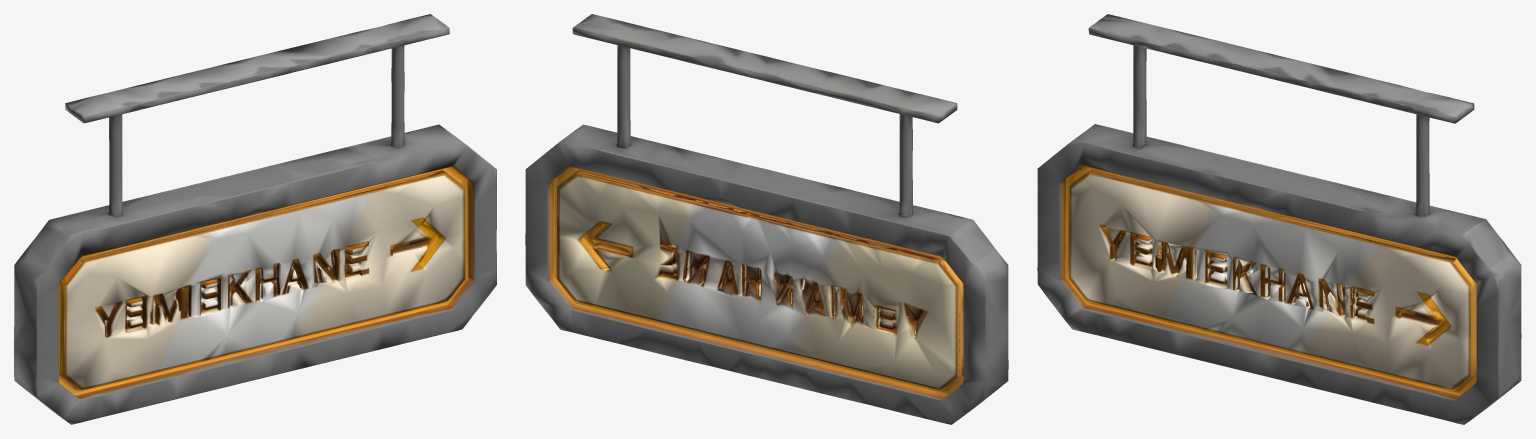
File: tablea.fbx
3 views of the same model, side by side, from view 1: azimuth 30°, elevation 25°; view 2: azimuth 150°, elevation 25°; view 3: azimuth 330°, elevation 25° (orthographic).
Visible parts, largest first — view 1: Mesh_0; view 2: Mesh_0; view 3: Mesh_0.
Boxes of the visible parts, x1,y1,x2,y2 form: Mesh_0: [14, 14, 496, 424]; Mesh_0: [525, 14, 1008, 424]; Mesh_0: [1037, 14, 1521, 424].
Bounding box in the file's own units: 191 × 120 × 16.26.
1 material, 1 textured.
